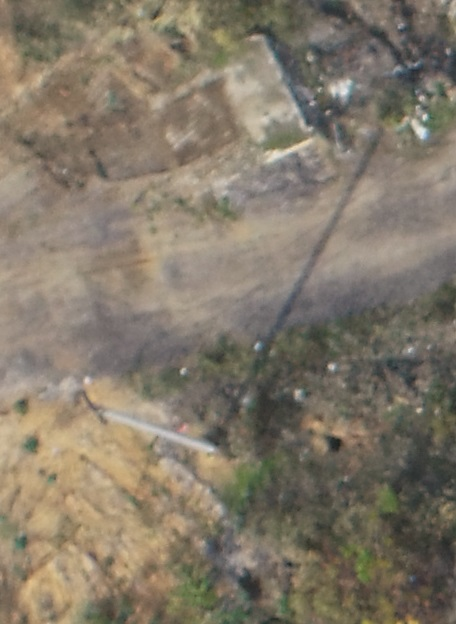opora: (78, 354, 260, 457)
